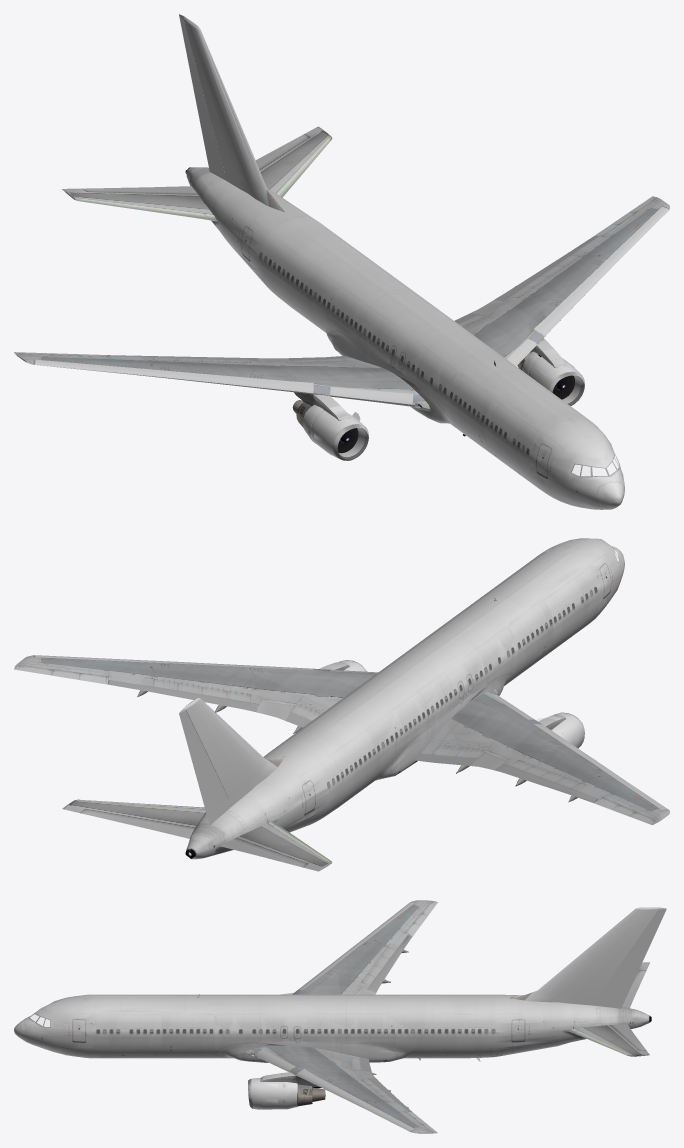
3 views of the same model, one above another, from view 1: azimuth 30°, elevation 25°; view 2: azimuth 150°, elevation 25°; view 3: azimuth 270°, elevation 25° (orthographic). The views are drawn at different scales.
Visible parts, largest first — view 1: Fuselage, LWing.001, RWing.002, VStab.001, RFflapwing2, RHStab, LHStab.001, LFflapwing2, VRudder, RCapaturbofan.003, Glass_Fuselage, RFflapwing1 (+2 smaller); view 2: Fuselage, LWing.001, RWing.002, VStab.001, VRudder, LHStab.001, RHStab, LHStab, Glass_Fuselage, flapr, flap_ext_L, RHelev (+7 smaller); view 3: Fuselage, VStab.001, LWing.001, RWing.002, VRudder, Glass_Fuselage, LHStab.001, LFflapwing2, LCapaturbofan.004, RFflapwing2, LCapaturbofan.001, flap_ext_R (+2 smaller).
Boxes of the visible parts, left/top/right/bottom form: Fuselage: left=185, top=167, right=624, bottom=509; LWing.001: left=462, top=196, right=669, bottom=359; RWing.002: left=14, top=352, right=430, bottom=411; VStab.001: left=183, top=16, right=284, bottom=212; RFflapwing2: left=35, top=359, right=313, bottom=394; RHStab: left=62, top=188, right=217, bottom=221; LHStab.001: left=260, top=126, right=332, bottom=197; LFflapwing2: left=534, top=206, right=669, bottom=336; VRudder: left=179, top=15, right=225, bottom=178; RCapaturbofan.003: left=313, top=412, right=368, bottom=460; Glass_Fuselage: left=258, top=255, right=527, bottom=457; RFflapwing1: left=330, top=387, right=413, bottom=406; Fuselage: left=185, top=538, right=624, bottom=859; LWing.001: left=14, top=655, right=376, bottom=714; RWing.002: left=414, top=689, right=669, bottom=824; VStab.001: left=184, top=698, right=284, bottom=825; VRudder: left=179, top=710, right=231, bottom=821; LHStab.001: left=62, top=799, right=205, bottom=826; RHStab: left=238, top=821, right=331, bottom=871; LHStab: left=82, top=809, right=195, bottom=838; Glass_Fuselage: left=326, top=591, right=595, bottom=793; flapr: left=417, top=747, right=490, bottom=766; flap_ext_L: left=109, top=680, right=252, bottom=710; RHelev: left=220, top=837, right=308, bottom=867; Fuselage: left=14, top=994, right=651, bottom=1062; VStab.001: left=510, top=907, right=658, bottom=1008; LWing.001: left=245, top=1045, right=437, bottom=1133; RWing.002: left=292, top=900, right=437, bottom=994; VRudder: left=593, top=909, right=666, bottom=1005; Glass_Fuselage: left=99, top=1031, right=498, bottom=1036; LHStab.001: left=566, top=1024, right=649, bottom=1056; LFflapwing2: left=296, top=1069, right=414, bottom=1131; LCapaturbofan.004: left=248, top=1077, right=278, bottom=1109; RFflapwing2: left=298, top=902, right=414, bottom=989; LCapaturbofan.001: left=278, top=1082, right=297, bottom=1109; flap_ext_R: left=369, top=935, right=411, bottom=990.
Size of what is drawn, in the model's own units: 46.31 by 15.03 by 55.2.
26 materials, 20 textured.
